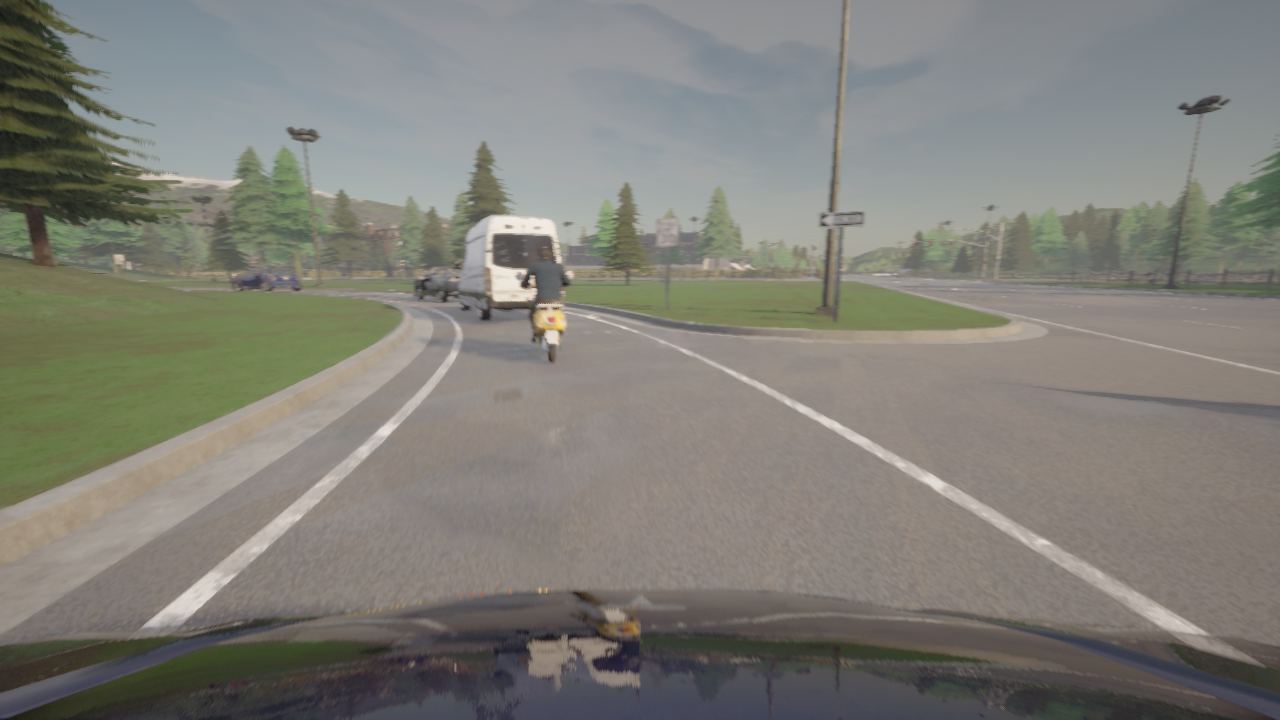cyclist: (0, 588, 1279, 719), (454, 215, 563, 320), (515, 271, 573, 362), (232, 264, 301, 291), (414, 266, 459, 302)
